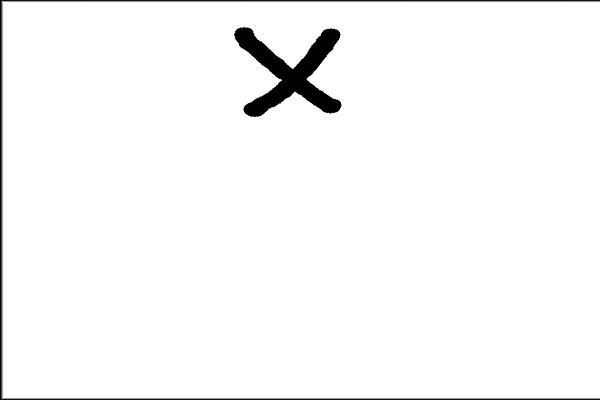X: (204, 7, 361, 144)
